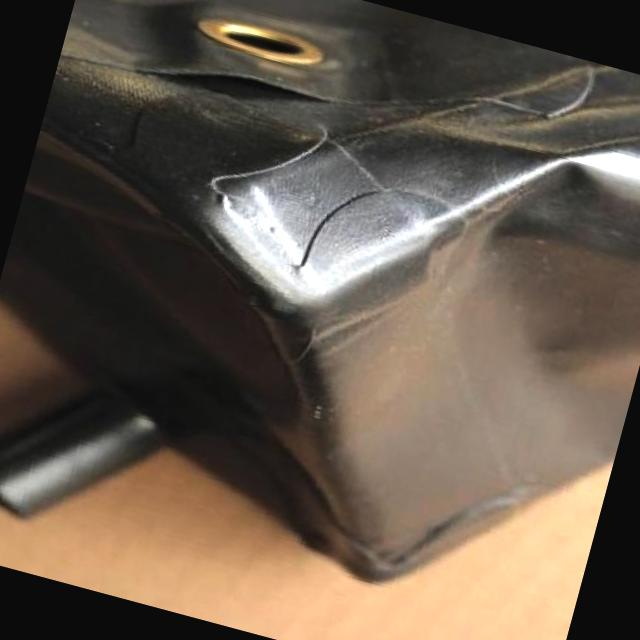crack: (282, 160, 398, 296)
